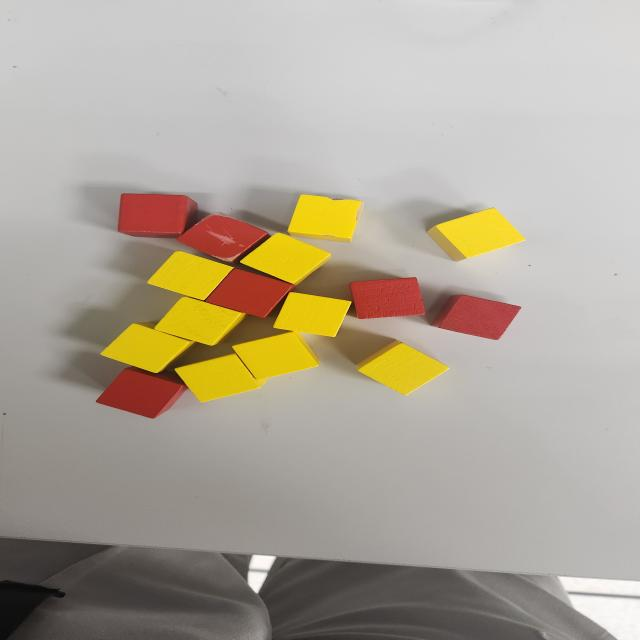broken: (153, 297, 246, 346), (176, 215, 270, 261), (287, 195, 364, 241), (349, 278, 426, 318)
red: (96, 368, 189, 418), (205, 267, 293, 318), (430, 294, 521, 340), (117, 194, 198, 238)
yellow: (356, 336, 450, 396), (426, 207, 526, 262), (239, 232, 332, 286), (101, 322, 195, 374), (174, 352, 267, 402), (146, 250, 235, 301), (231, 330, 320, 380), (273, 292, 351, 337)
